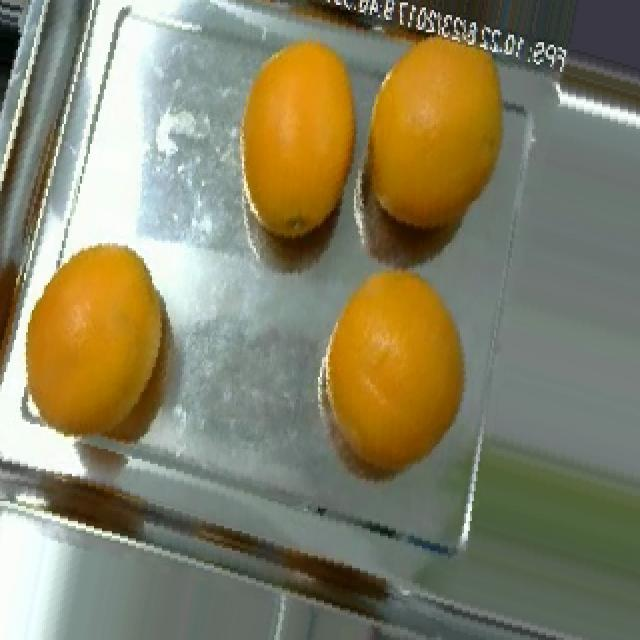Fruit: (222, 17, 358, 236)
